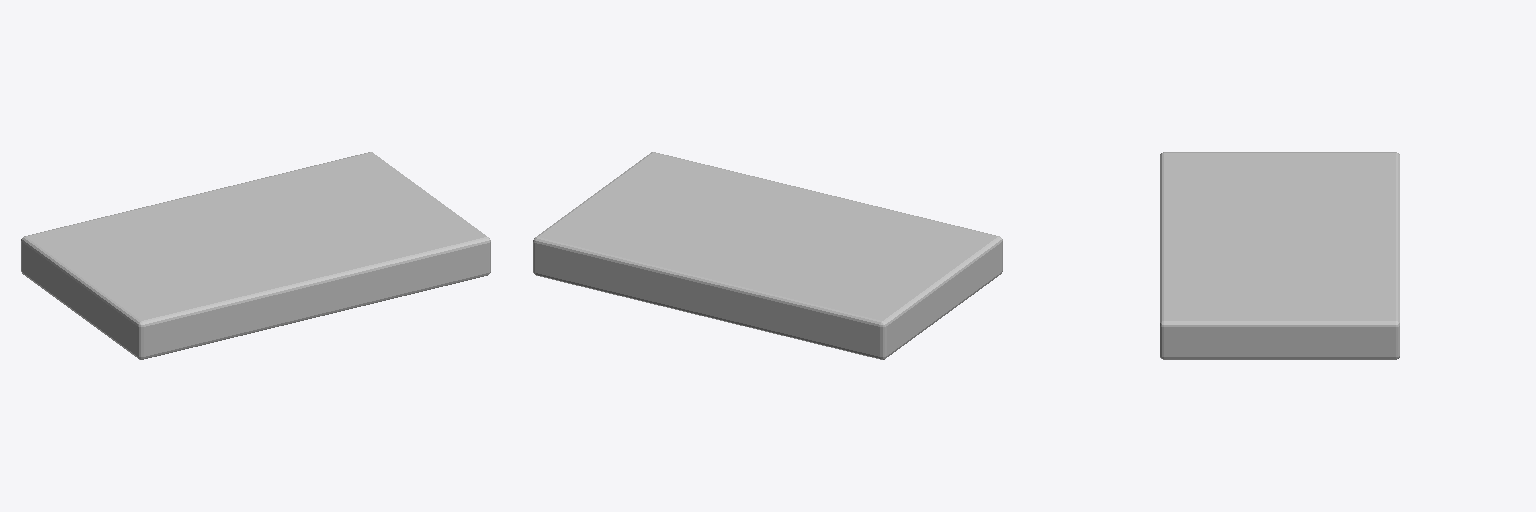
Rendered from colchon.obj.
The picture shows the model from 3 angles: view 1: azimuth 30°, elevation 25°; view 2: azimuth 150°, elevation 25°; view 3: azimuth 270°, elevation 25°; orthographic projection.
Visible parts, largest first — view 1: Colchón; view 2: Colchón; view 3: Colchón.
Part boxes in pixels (left/top/right/bottom): Colchón: left=21, top=152, right=490, bottom=359; Colchón: left=533, top=152, right=1002, bottom=359; Colchón: left=1160, top=152, right=1399, bottom=359.
Bounding box in the file's own units: 2 × 0.2083 × 1.18.